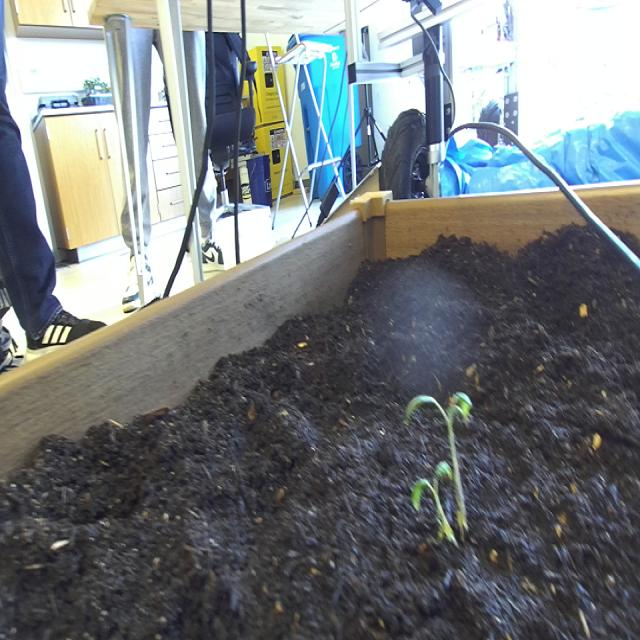Healthy: (402, 373, 479, 571)
